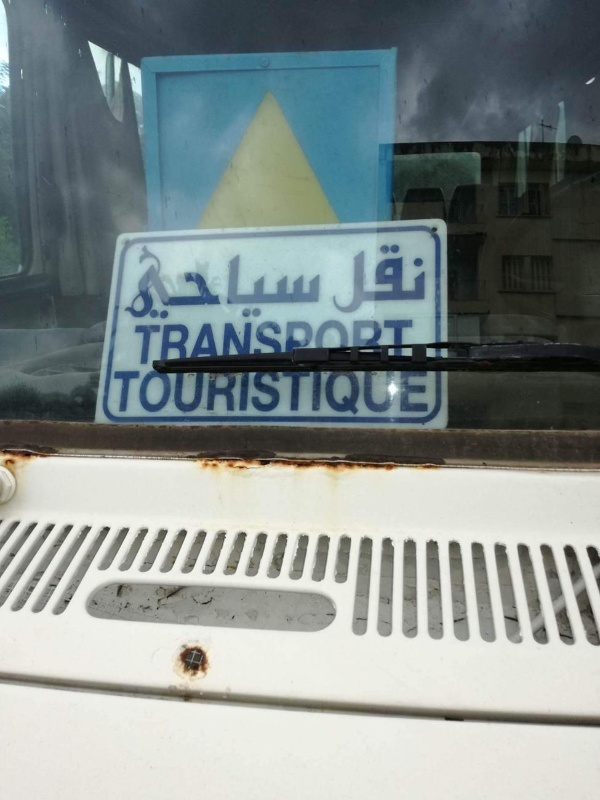text: (129, 240, 144, 325), (145, 240, 160, 325), (161, 240, 176, 325), (177, 240, 192, 325), (193, 240, 208, 325), (209, 240, 224, 325), (225, 240, 240, 325), (241, 240, 256, 325), (257, 240, 272, 325), (273, 240, 288, 325), (289, 240, 304, 325), (305, 240, 320, 325), (337, 242, 352, 316), (353, 242, 368, 316), (369, 242, 384, 316), (385, 242, 400, 316), (401, 242, 416, 316), (417, 242, 430, 316), (145, 317, 160, 370), (161, 317, 176, 370), (177, 317, 192, 370), (193, 317, 208, 370), (209, 317, 224, 370), (225, 317, 240, 370), (241, 317, 256, 370), (257, 317, 272, 370), (273, 317, 288, 370), (289, 317, 304, 370), (305, 317, 320, 370), (321, 317, 336, 370), (337, 317, 352, 370), (353, 317, 368, 370), (369, 317, 384, 370), (385, 317, 400, 370), (113, 364, 128, 415), (129, 364, 144, 415), (145, 364, 160, 415), (161, 364, 176, 415), (177, 364, 192, 415), (193, 364, 208, 415), (209, 364, 224, 415), (225, 364, 240, 415), (241, 364, 256, 415), (257, 364, 272, 415), (273, 364, 288, 415), (289, 364, 304, 415), (305, 364, 320, 415), (321, 364, 336, 415), (337, 364, 352, 415), (353, 364, 368, 415), (369, 364, 384, 415), (385, 364, 400, 415), (401, 364, 416, 415), (401, 317, 415, 370), (417, 364, 429, 415), (133, 317, 144, 370), (123, 240, 128, 325), (321, 240, 323, 325), (335, 242, 336, 316)
